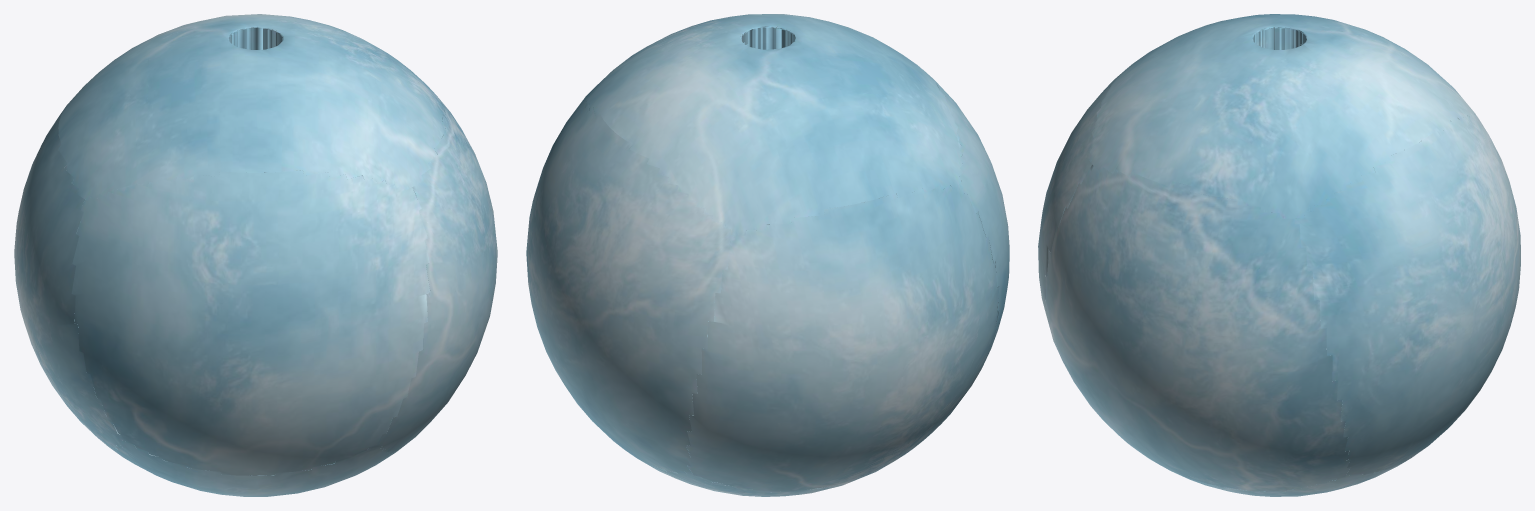
File: stone-aquamarine.glb
3 views of the same model, side by side, from view 1: azimuth 30°, elevation 25°; view 2: azimuth 150°, elevation 25°; view 3: azimuth 270°, elevation 25° (orthographic).
Visible parts, largest first — view 1: Bead_hi; view 2: Bead_hi; view 3: Bead_hi.
Part boxes in pixels (<box>): Bead_hi: <box>14,14,497,496</box>; Bead_hi: <box>526,14,1009,496</box>; Bead_hi: <box>1038,14,1520,496</box>.
Bounding box in the file's own units: 1 × 0.9939 × 0.9996.
1 material, 1 textured.
